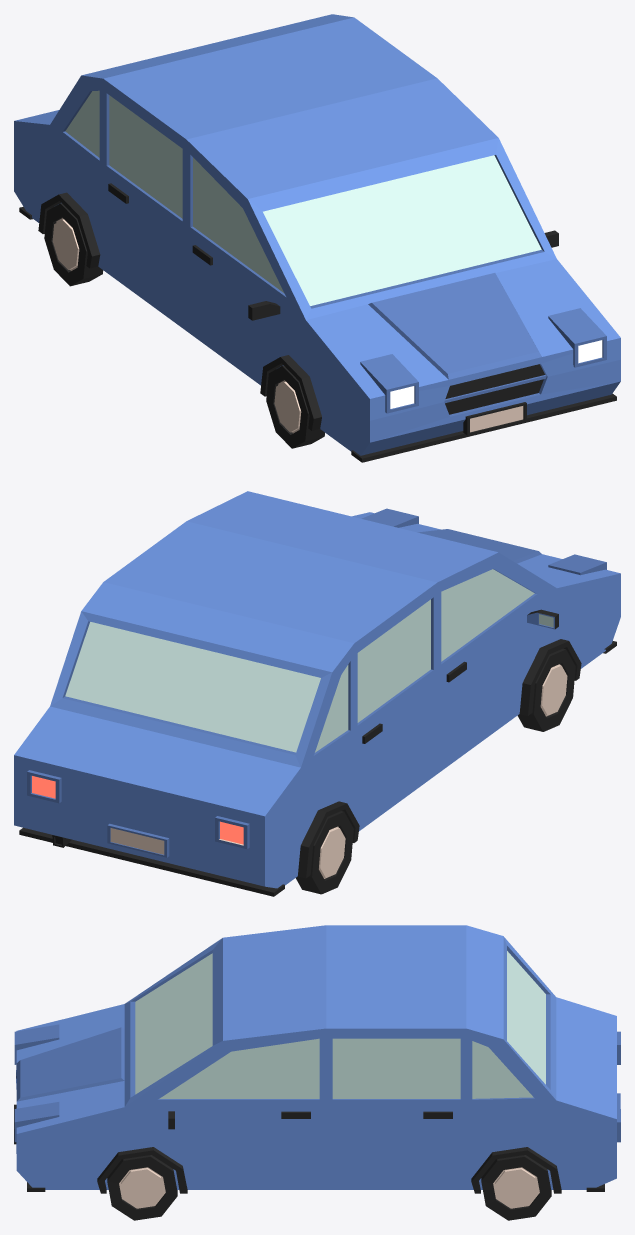
Rendered from Carro2.fbx.
3 renders of one model, top to bottom at view 1: azimuth 30°, elevation 25°; view 2: azimuth 150°, elevation 25°; view 3: azimuth 270°, elevation 25°, orthographic. The views are drawn at different scales.
Visible parts, largest first — view 1: blue_car; view 2: blue_car; view 3: blue_car.
Part boxes in pixels (x1=…): blue_car: x1=14, y1=14, x2=620, y2=462; blue_car: x1=14, y1=491, x2=620, y2=896; blue_car: x1=14, y1=925, x2=620, y2=1220.
Size of the model in its own units: 256 by 178 by 520.
